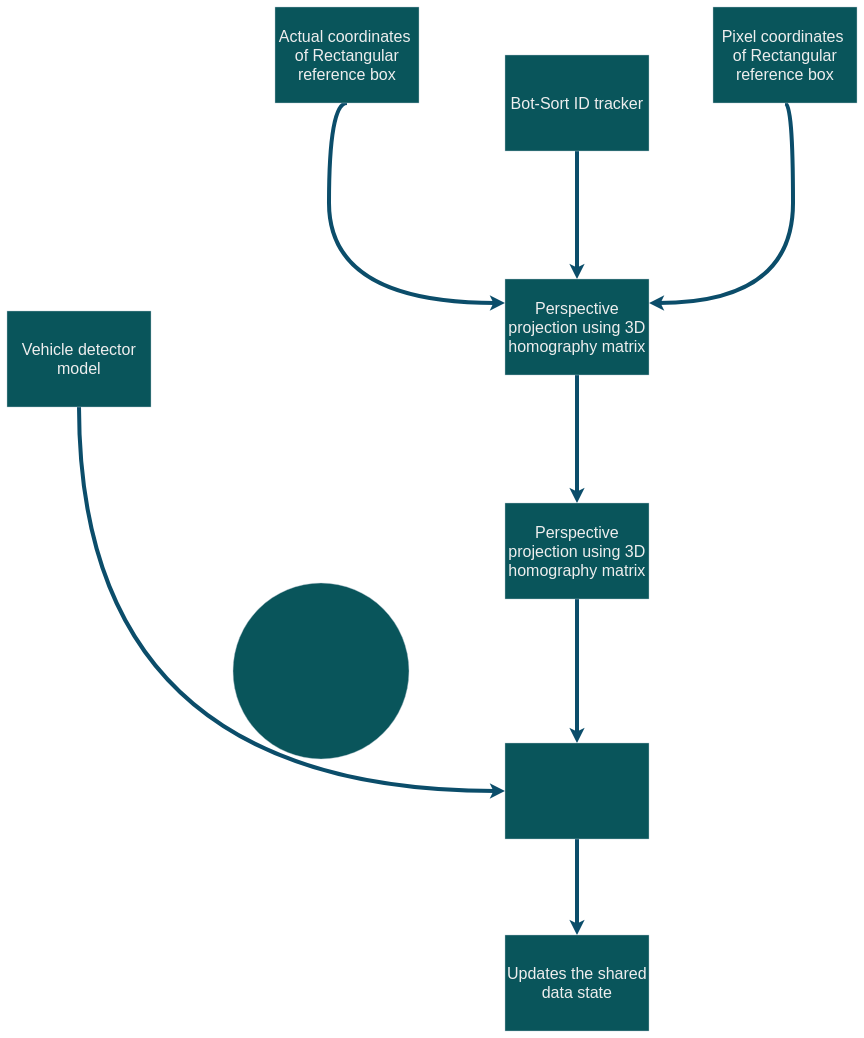
This 864x1038 diagram has some shape labels left out. The shapes that lost their labels are listed below. From the top down, each one's centre as x and y in pixels, then its label:
(321,671): Vehicle coordinates in different frame + Plausibility gating
(577,791): Speed computation and smoothing.
